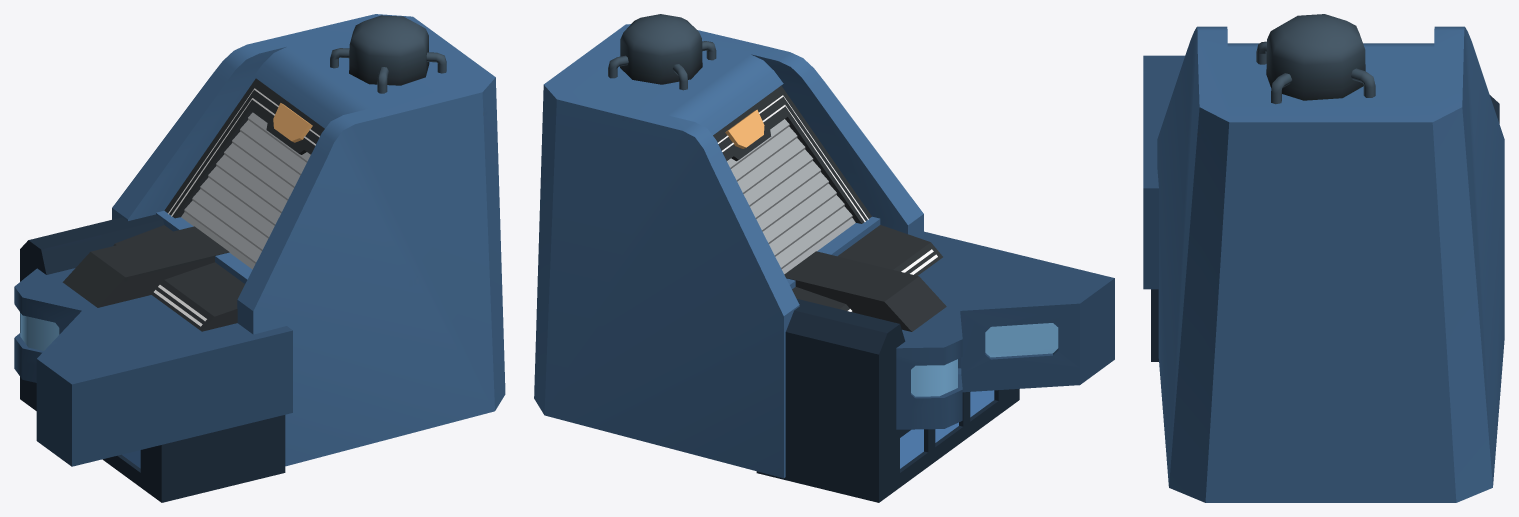
The model's file is Police_Building_02.fbx.
3 renders of one model, left to right at view 1: azimuth 30°, elevation 25°; view 2: azimuth 150°, elevation 25°; view 3: azimuth 270°, elevation 25°, orthographic. The views are drawn at different scales.
Visible parts, largest first — view 1: Police_Building_02; view 2: Police_Building_02; view 3: Police_Building_02.
Boxes of the visible parts, x1,y1,x2,y2 form: Police_Building_02: (14, 14, 505, 502); Police_Building_02: (534, 14, 1114, 502); Police_Building_02: (1143, 14, 1504, 502).
Size of the model in its own units: 45.87 by 34.4 by 25.46.
2 materials, 2 textured.
